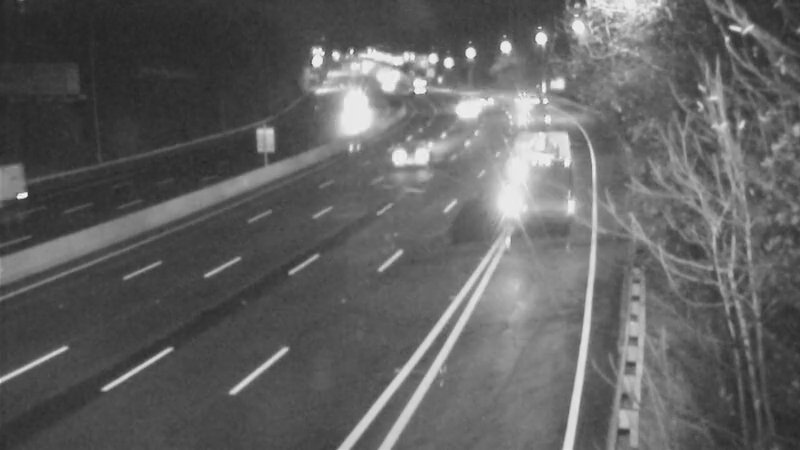vehicle: (376, 117, 456, 197), (496, 134, 576, 214), (387, 59, 437, 109), (501, 78, 551, 128), (459, 77, 509, 127), (441, 85, 491, 135), (328, 79, 378, 129)
